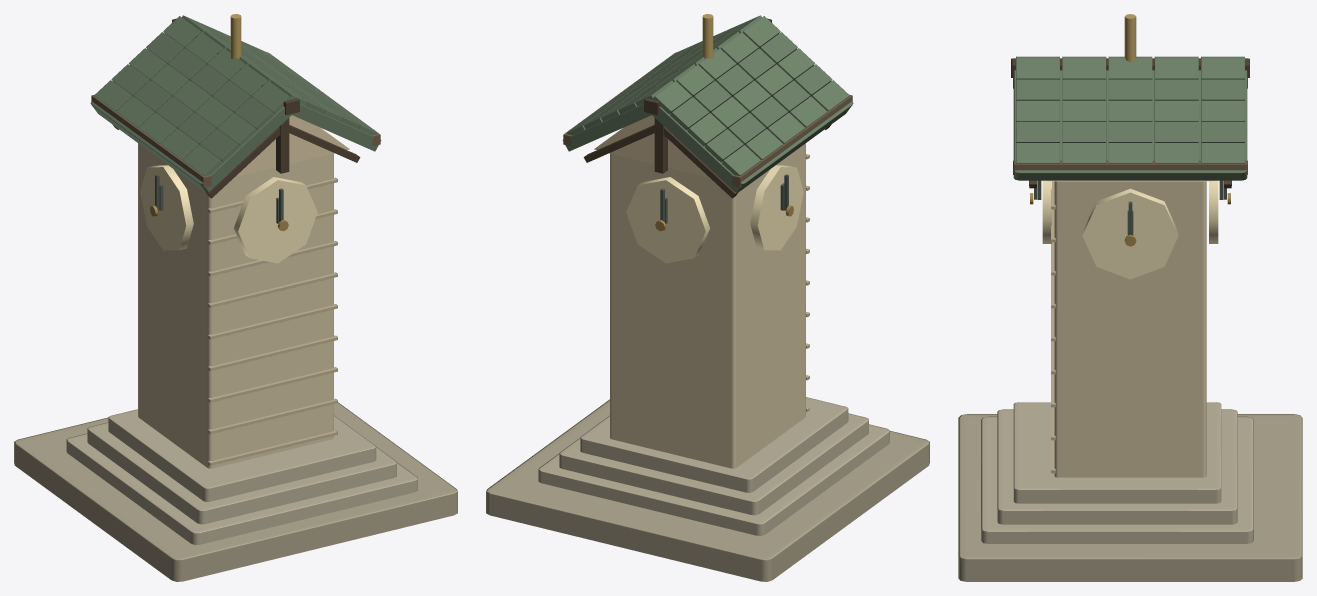
File: clock-0.glb
3 renders of one model, left to right at view 1: azimuth 30°, elevation 25°; view 2: azimuth 150°, elevation 25°; view 3: azimuth 270°, elevation 25°, orthographic. The views are drawn at different scales.
Parts seen in each view (by area): view 1: clock-0-0; view 2: clock-0-0; view 3: clock-0-0.
Part boxes in pixels (box(x1,y1,x2,y2)): clock-0-0: box(14, 14, 457, 581); clock-0-0: box(486, 14, 929, 581); clock-0-0: box(958, 14, 1302, 581).
Bounding box in the file's own units: 2.65 × 4.19 × 2.65.
